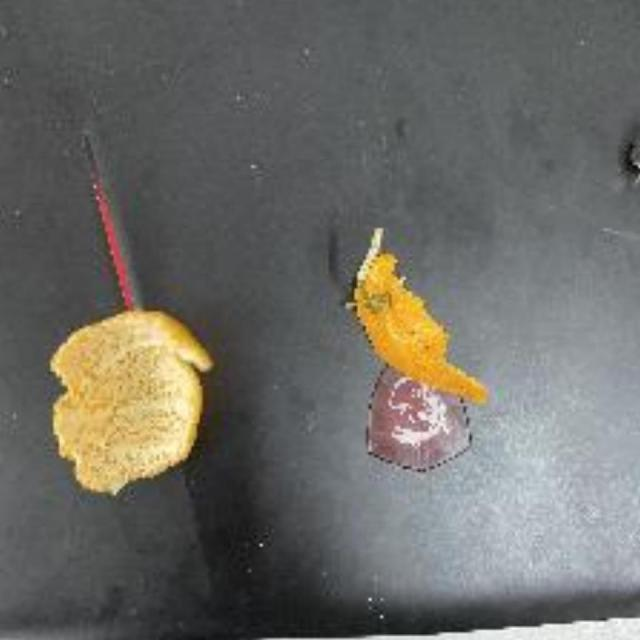orange-peel: (43, 309, 215, 498), (344, 226, 489, 406)
